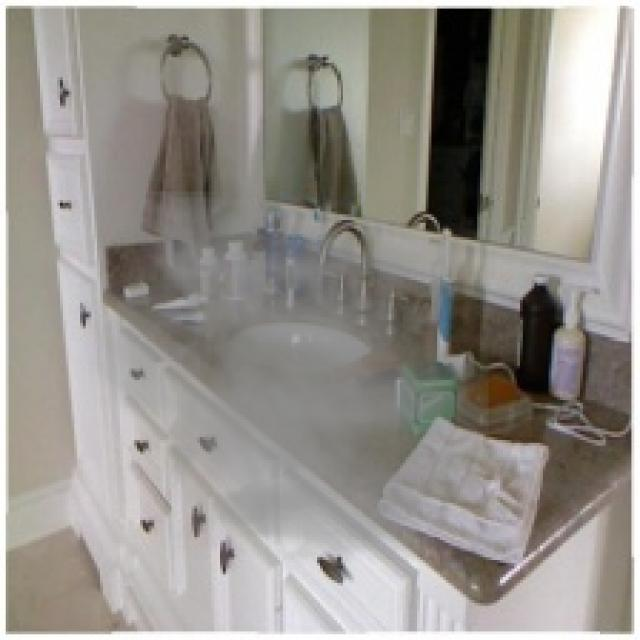smoke: (71, 191, 488, 563)
